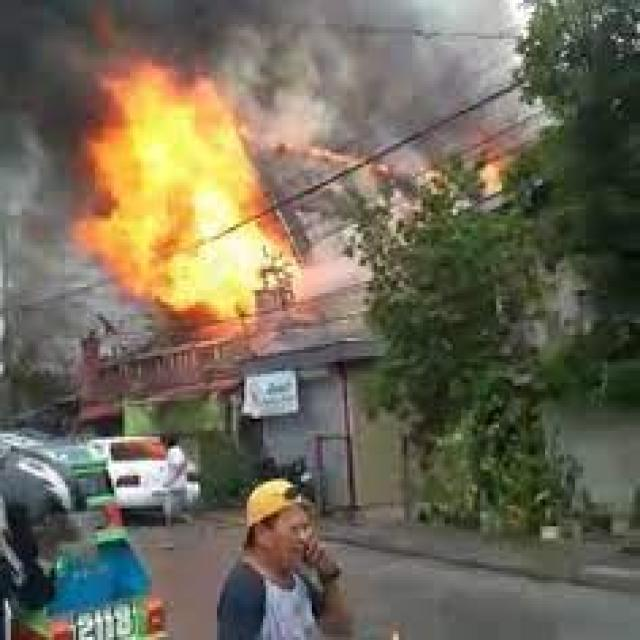Fire: (93, 86, 274, 286)
Smoke: (277, 0, 536, 145), (0, 0, 90, 330), (89, 0, 302, 81)
